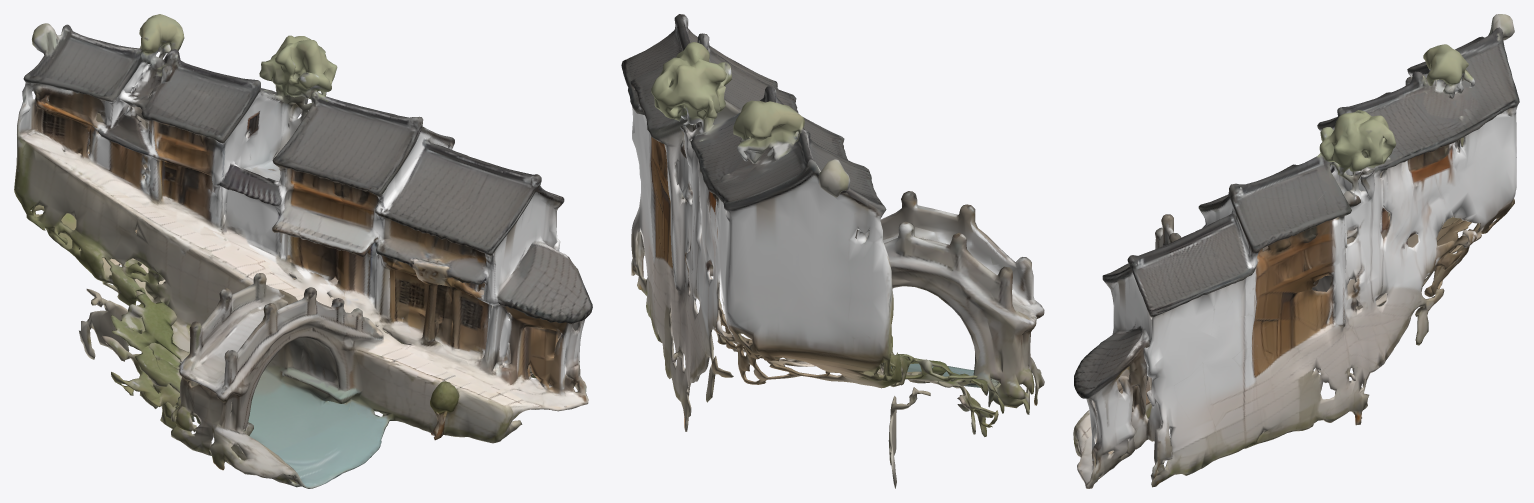
3 renders of one model, left to right at view 1: azimuth 30°, elevation 25°; view 2: azimuth 150°, elevation 25°; view 3: azimuth 270°, elevation 25°, orthographic. The views are drawn at different scales.
Visible parts, largest first — view 1: material.001; view 2: material.001; view 3: material.001.
Part boxes in pixels (x1=…): material.001: x1=14, y1=14, x2=592, y2=488; material.001: x1=621, y1=14, x2=1044, y2=488; material.001: x1=1073, y1=14, x2=1519, y2=488.
Size of the model in its own units: 0.792 by 0.6772 by 0.7963.
Materials: 1 (1 with a texture image).
